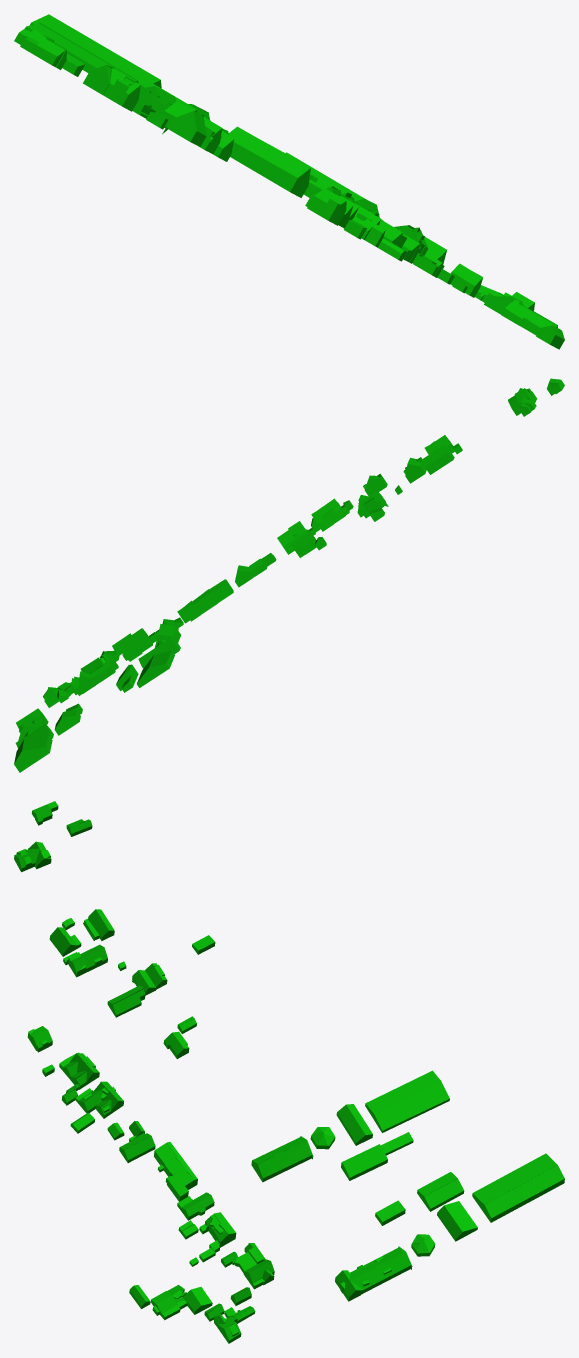
The picture shows the model from 3 angles, top to bottom: view 1: azimuth 30°, elevation 25°; view 2: azimuth 150°, elevation 25°; view 3: azimuth 270°, elevation 25°; orthographic projection. The views are drawn at different scales.
Parts seen in each view (by area): view 1: mesh; view 2: mesh; view 3: mesh.
Boxes of the visible parts, x1,y1,x2,y2 form: mesh: (14, 14, 564, 349); mesh: (14, 378, 564, 772); mesh: (14, 801, 564, 1343).
Size of the model in its own units: 219 by 175 by 253.
